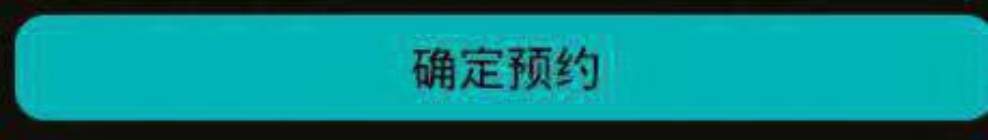Button: (1, 1, 987, 139)
